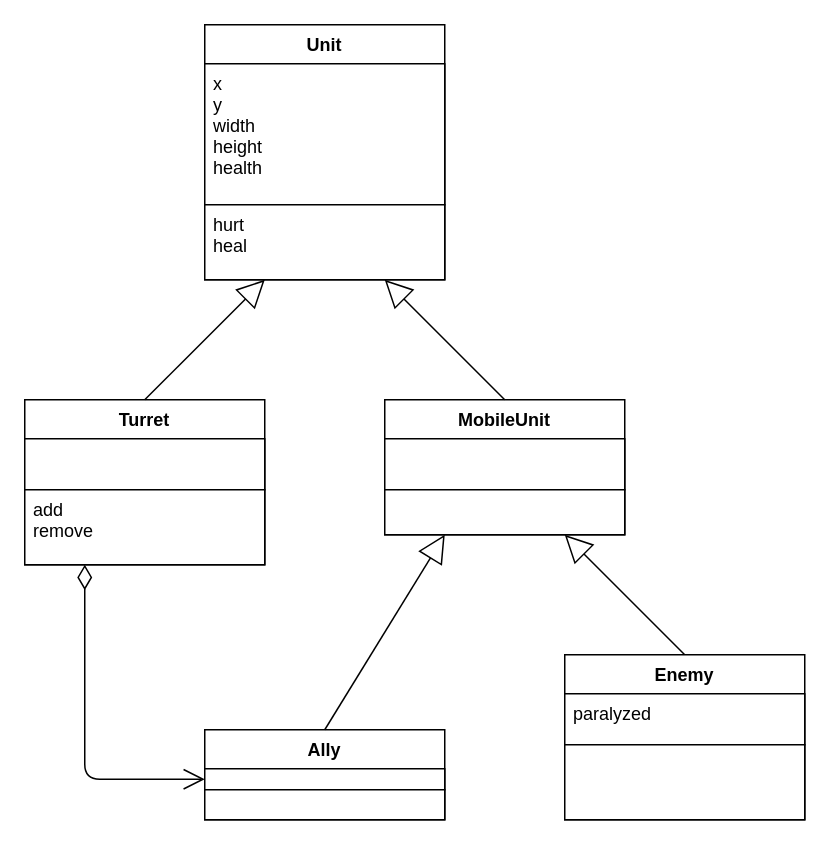
Image size: 830x845. Some labels were removed from this diagram. Each missing label, with the centre of its shape:
"defenders" belongs at [144,463].
"hold release" belongs at [684,781].
"move" belongs at [504,511].
"power" belongs at [504,463].
